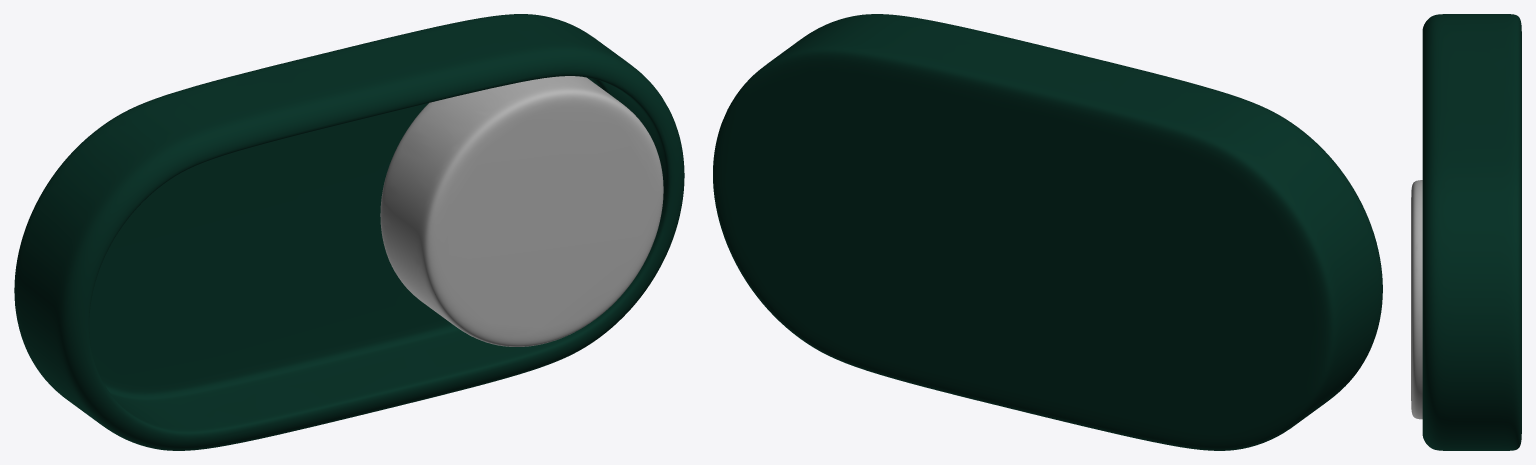
The model's file is toggle.glb.
The picture shows the model from 3 angles, left to right: view 1: azimuth 30°, elevation 25°; view 2: azimuth 150°, elevation 25°; view 3: azimuth 270°, elevation 25°; orthographic projection. The views are drawn at different scales.
Parts seen in each view (by area): view 1: Circle.019; view 2: Circle.019; view 3: Circle.019.
Part boxes in pixels (x1,y1,x2,y2): Circle.019: [14, 14, 684, 450]; Circle.019: [713, 14, 1382, 450]; Circle.019: [1411, 14, 1521, 450].
Bounding box in the file's own units: 1.96 × 0.982 × 0.3505.
